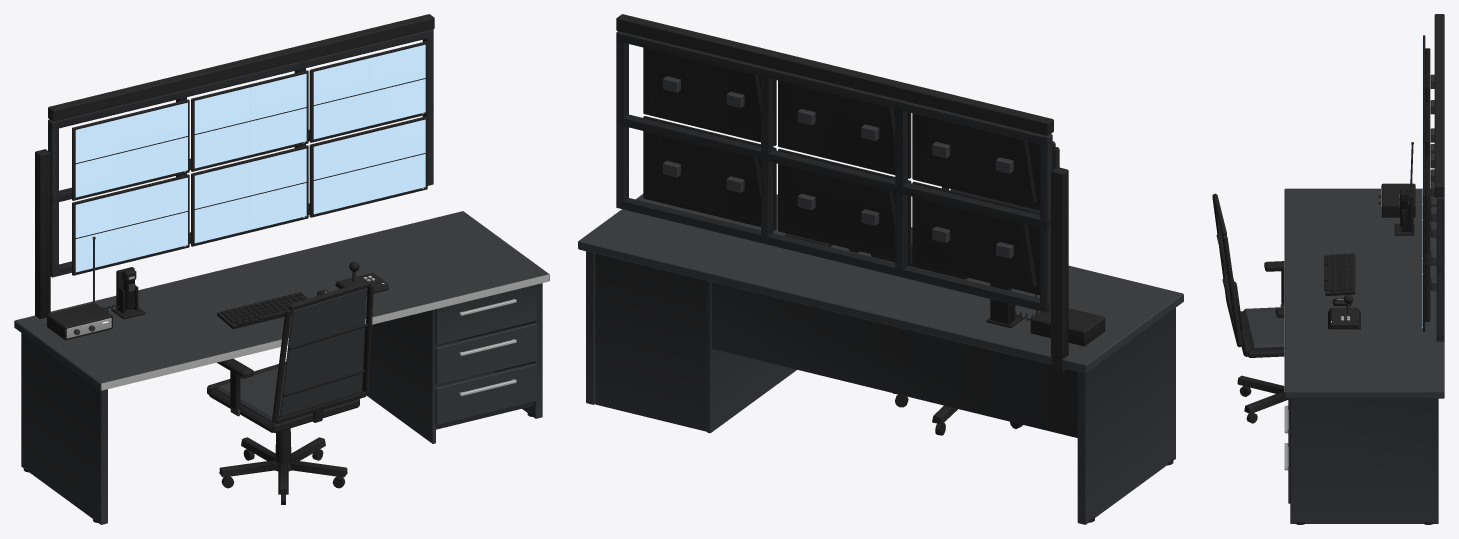
The model's file is armory_security.gltf.
3 views of the same model, side by side, from view 1: azimuth 30°, elevation 25°; view 2: azimuth 150°, elevation 25°; view 3: azimuth 270°, elevation 25° (orthographic). The views are drawn at different scales.
Visible parts, largest first — view 1: ArmorySecurity_Graphite, ArmorySecurity_Screens, ArmorySecurity_Polymer, ArmorySecurity_Mesh, ArmorySecurity_Stainless; view 2: ArmorySecurity_Graphite, ArmorySecurity_Polymer, ArmorySecurity_Gunmetal; view 3: ArmorySecurity_Graphite, ArmorySecurity_Polymer, ArmorySecurity_Mesh, ArmorySecurity_Gunmetal, ArmorySecurity_Stainless, ArmorySecurity_Screens.
Boxes of the visible parts, x1,y1,x2,y2 form: ArmorySecurity_Graphite: (14, 29, 549, 524); ArmorySecurity_Screens: (75, 44, 425, 272); ArmorySecurity_Polymer: (23, 14, 532, 522); ArmorySecurity_Mesh: (217, 288, 366, 422); ArmorySecurity_Stainless: (66, 274, 548, 396); ArmorySecurity_Graphite: (578, 31, 1183, 524); ArmorySecurity_Polymer: (616, 14, 1173, 522); ArmorySecurity_Gunmetal: (663, 76, 1038, 424); ArmorySecurity_Graphite: (1284, 188, 1444, 523); ArmorySecurity_Polymer: (1212, 14, 1444, 524); ArmorySecurity_Mesh: (1216, 214, 1284, 349); ArmorySecurity_Gunmetal: (1243, 74, 1436, 413); ArmorySecurity_Stainless: (1284, 186, 1399, 470); ArmorySecurity_Screens: (1422, 38, 1422, 327).
Bounding box in the file's own units: 2.4 × 1.79 × 1.16.
